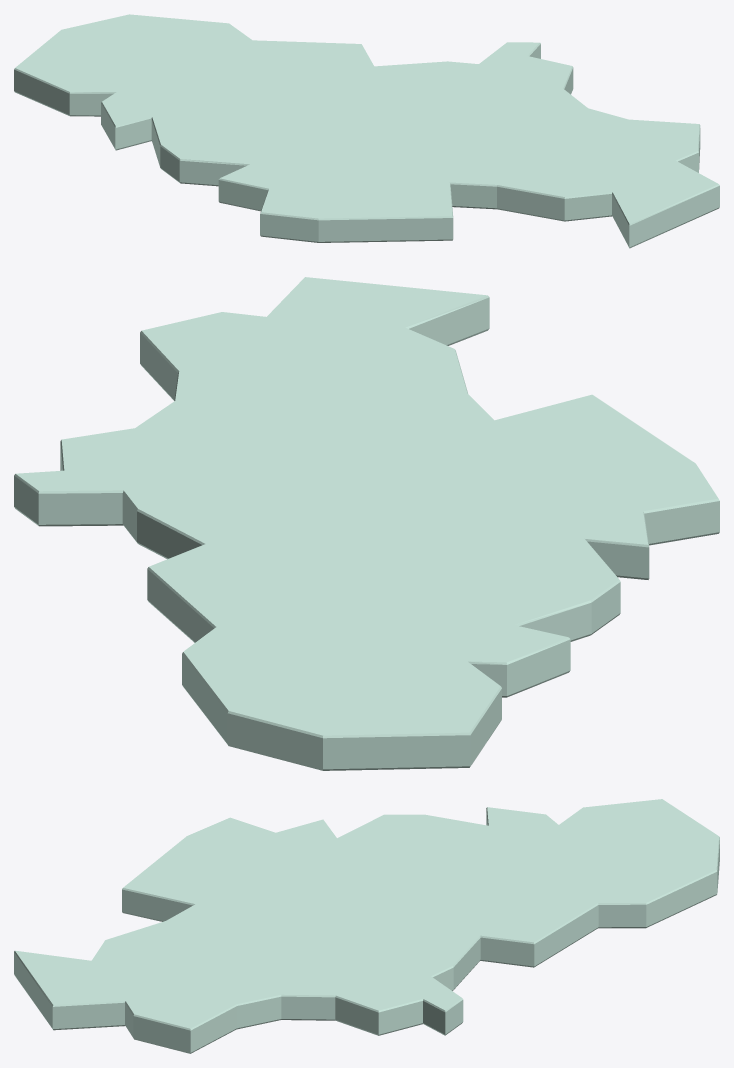
Rendered from SRB.glb.
The picture shows the model from 3 angles, top to bottom: view 1: azimuth 30°, elevation 25°; view 2: azimuth 150°, elevation 25°; view 3: azimuth 270°, elevation 25°; orthographic projection. The views are drawn at different scales.
Bounding box in the file's own units: 1.33 × 0.068 × 1.72.
